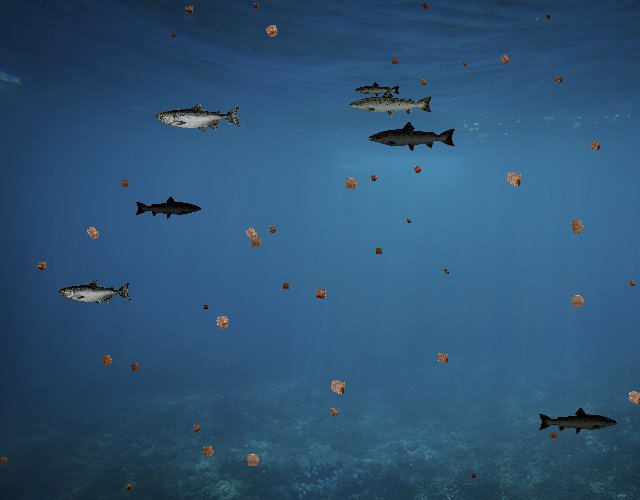Fish: (368, 121, 458, 153), (348, 88, 434, 119), (156, 102, 242, 133), (538, 407, 619, 436), (60, 280, 133, 306), (134, 196, 202, 220), (354, 82, 401, 99)
Pellet: (239, 447, 266, 474), (339, 171, 364, 196), (495, 49, 515, 69), (181, 1, 198, 18), (372, 244, 386, 258), (460, 58, 470, 68)
